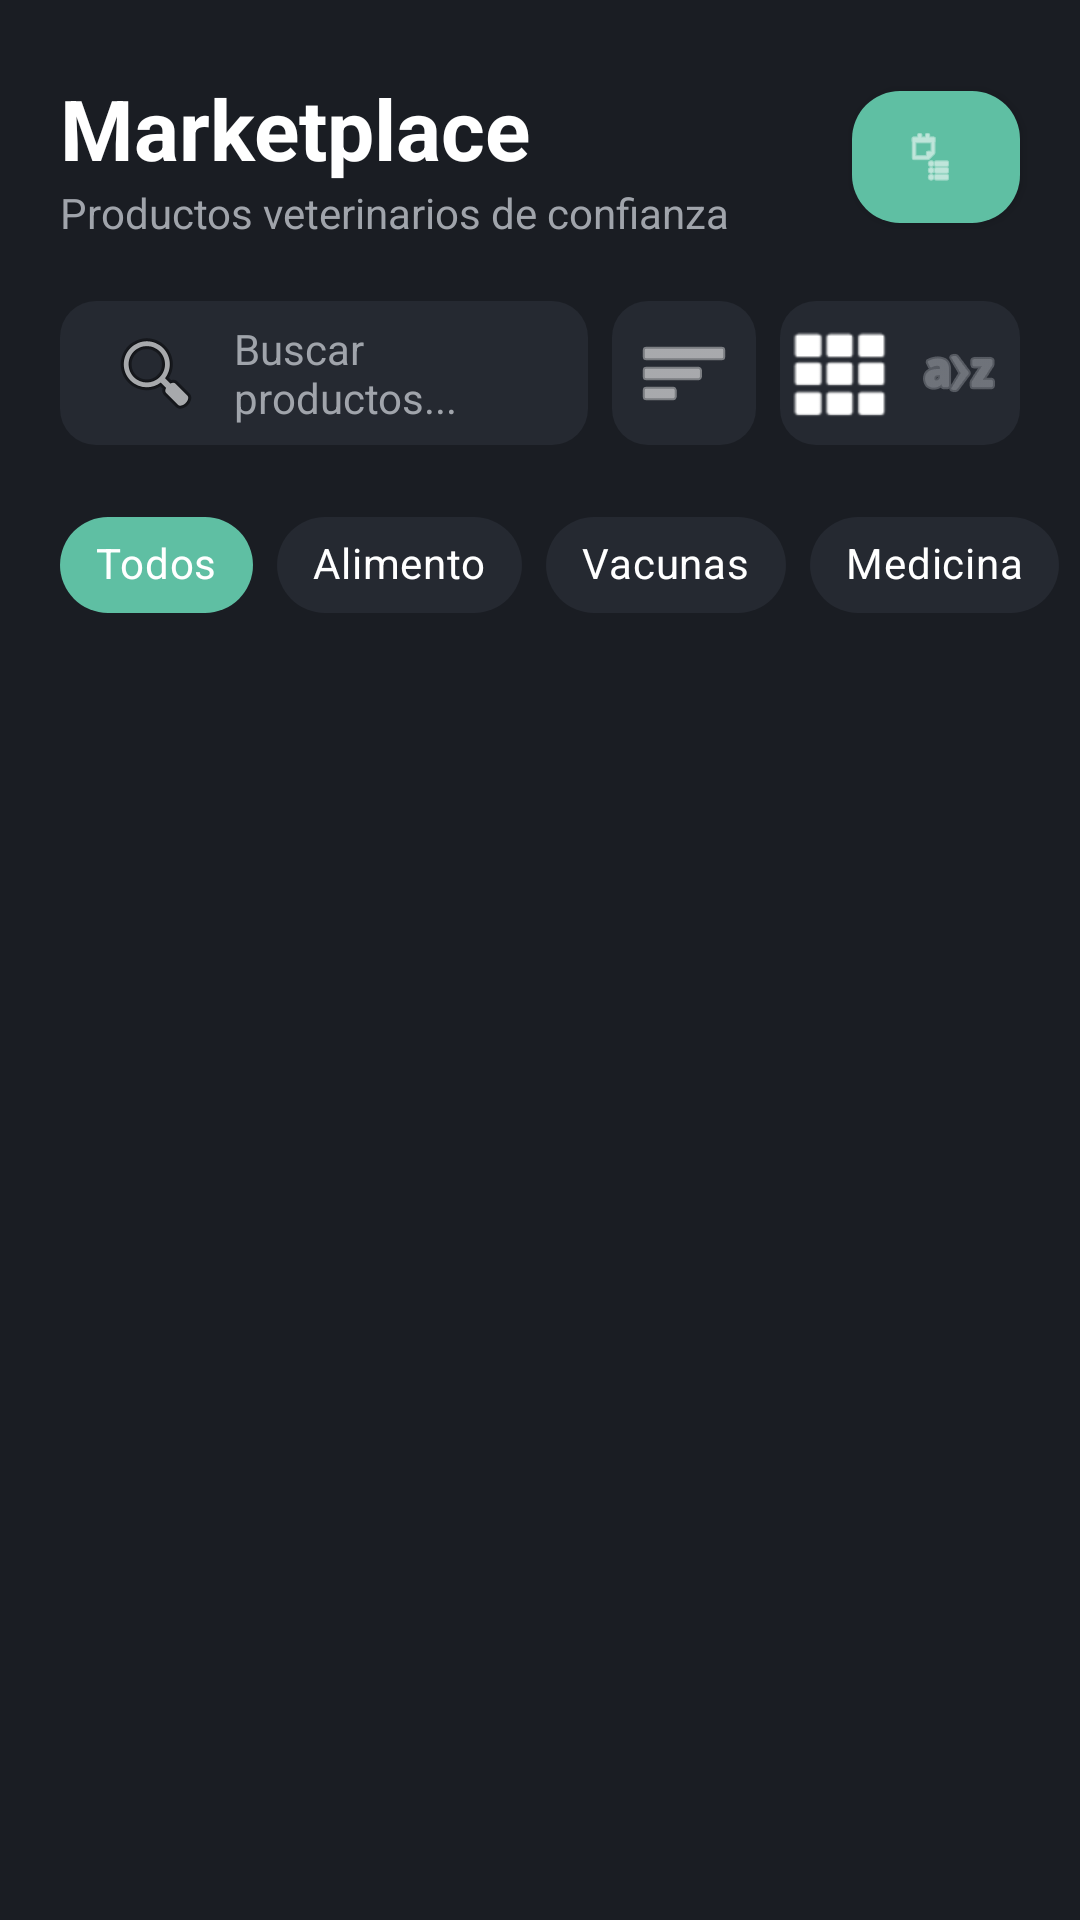

Locate icon controls on the screen. Image size 1080px x 1920px, boxes as (x1, y1, x2, y2).
agenda: (852, 91, 1020, 223)
dialer: (793, 332, 886, 416)
sort alphabetically: (923, 354, 995, 392)
sort by size: (642, 346, 726, 401)
